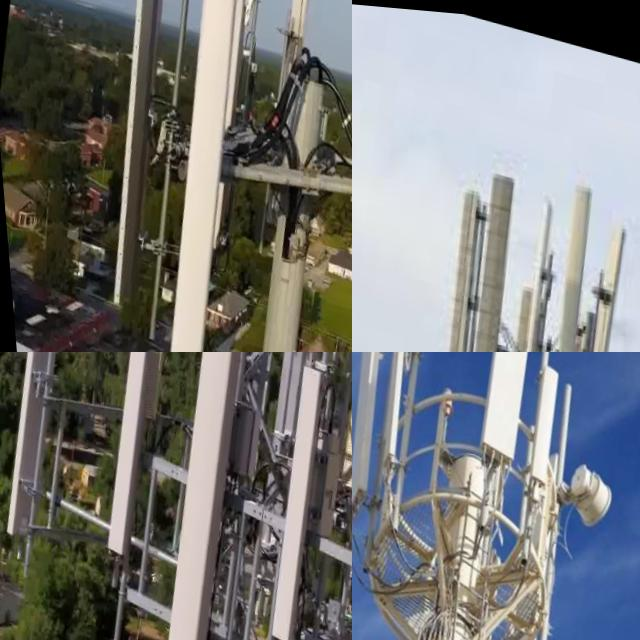GSM Antenna: (126, 352, 287, 640), (223, 356, 348, 640), (179, 0, 276, 274), (77, 352, 177, 565), (0, 352, 99, 556), (516, 163, 611, 352), (442, 161, 532, 352), (414, 170, 501, 352), (299, 352, 352, 640), (452, 352, 568, 476), (550, 202, 640, 352), (254, 0, 327, 159), (510, 352, 577, 493), (352, 352, 409, 505), (472, 270, 557, 352), (177, 352, 272, 422), (366, 352, 420, 470)
Microwave Antenna: (555, 444, 617, 533)
